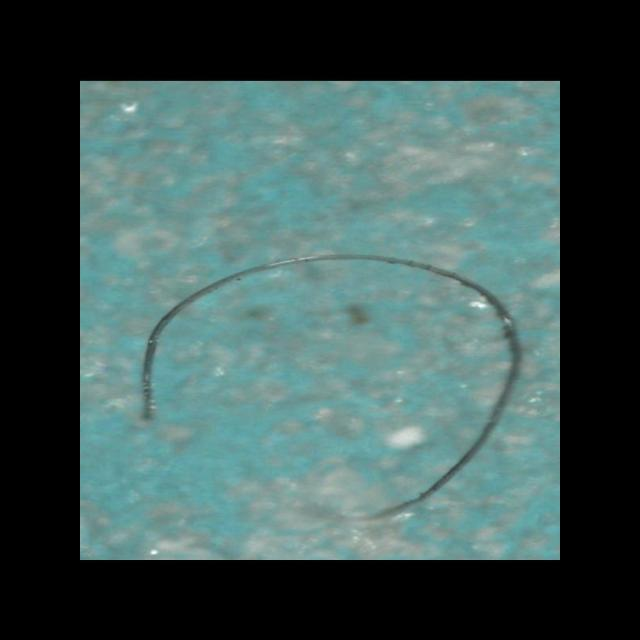Fibre: (140, 253, 526, 523)
